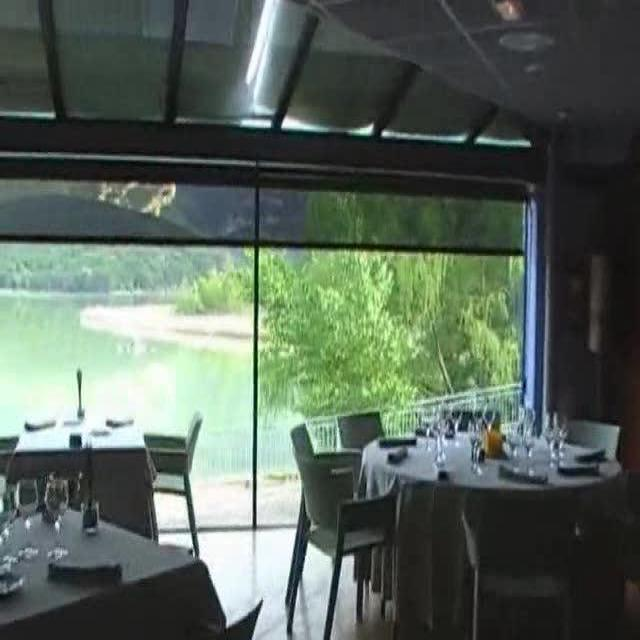other: (108, 368, 176, 437)
